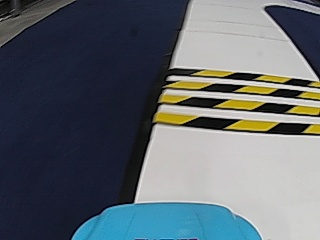bump: (156, 61, 318, 144)
